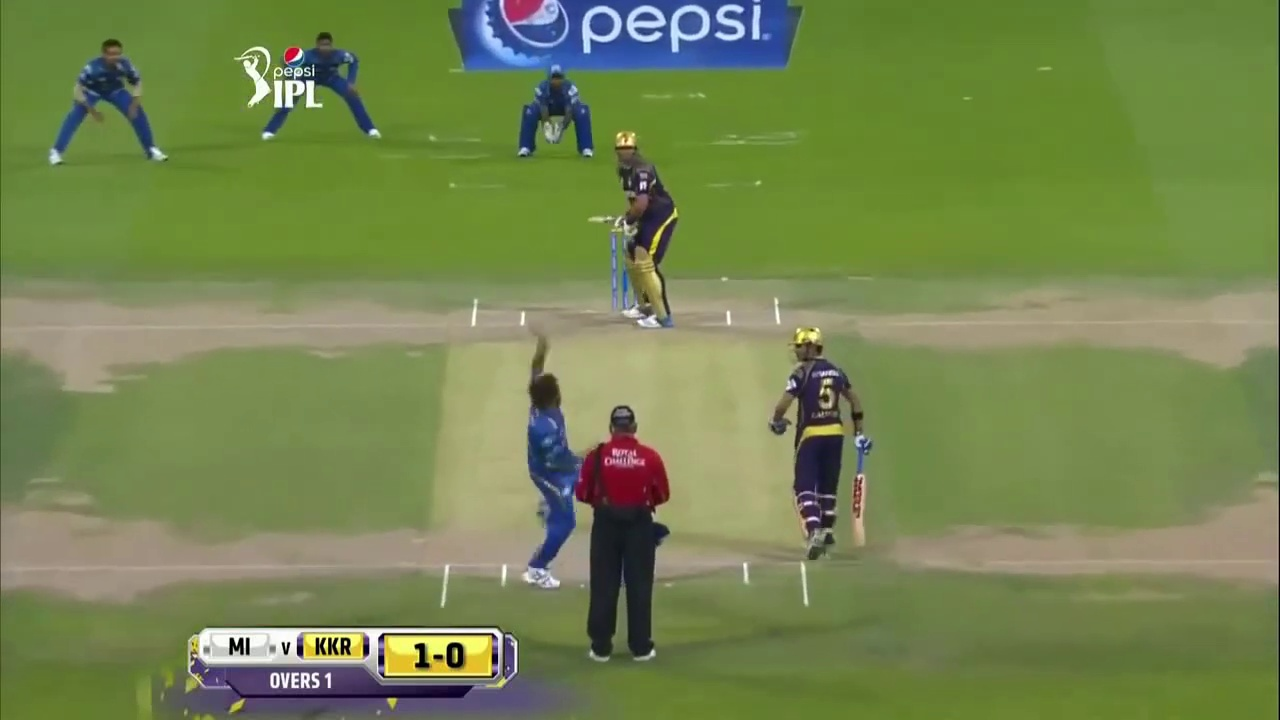bat: (850, 445, 866, 550)
